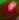red: (0, 0, 19, 20)
